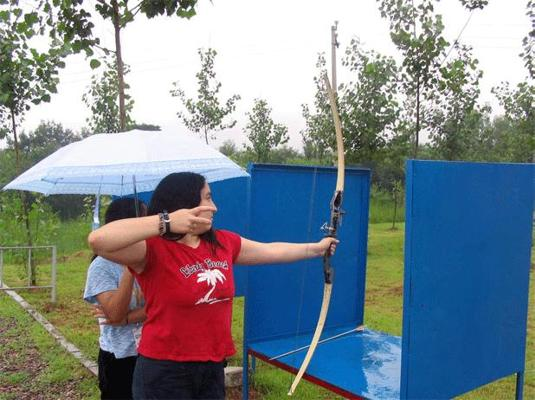person: (90, 168, 343, 400)
